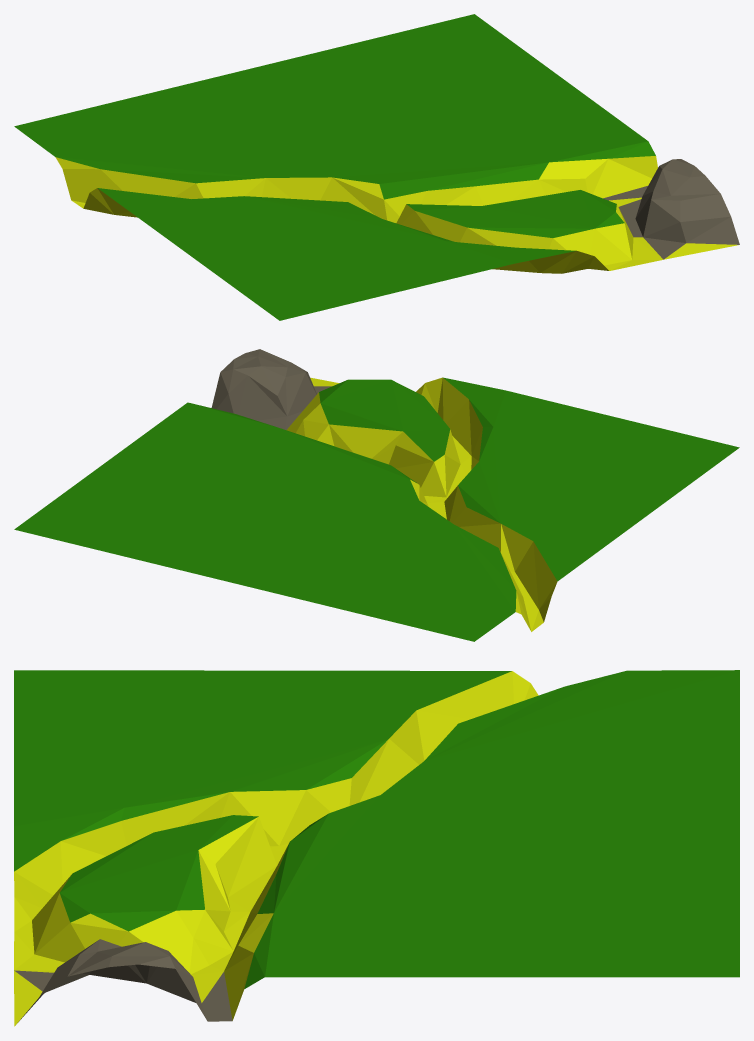
3 views of the same model, one above another, from view 1: azimuth 30°, elevation 25°; view 2: azimuth 150°, elevation 25°; view 3: azimuth 270°, elevation 25° (orthographic). The views are drawn at different scales.
Visible parts, largest first — view 1: TerrainVeryHigh; view 2: TerrainVeryHigh; view 3: TerrainVeryHigh.
Boxes of the visible parts, x1,y1,x2,y2 form: TerrainVeryHigh: [14, 14, 739, 320]; TerrainVeryHigh: [14, 349, 739, 641]; TerrainVeryHigh: [14, 670, 739, 1026].
Bounding box in the file's own units: 1253 × 1249 × 124.
